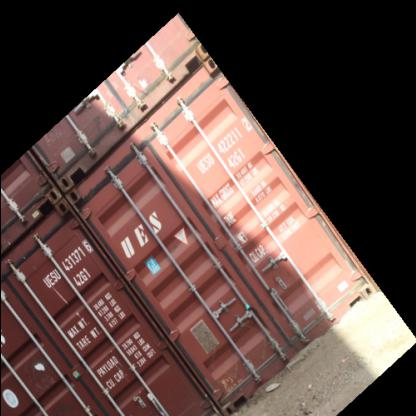Damage: (190, 285, 316, 396)
